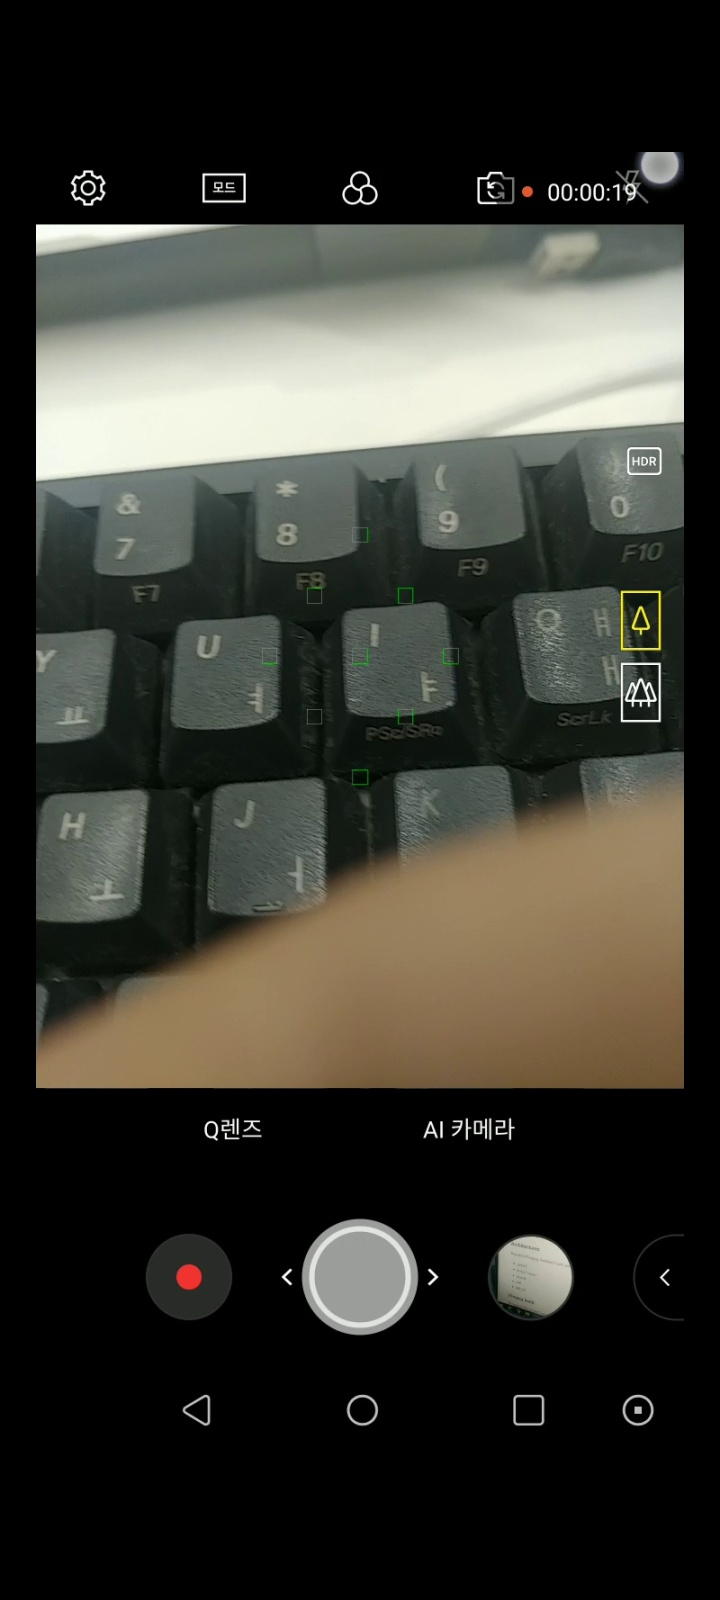Cursor: (639, 153, 684, 189)
